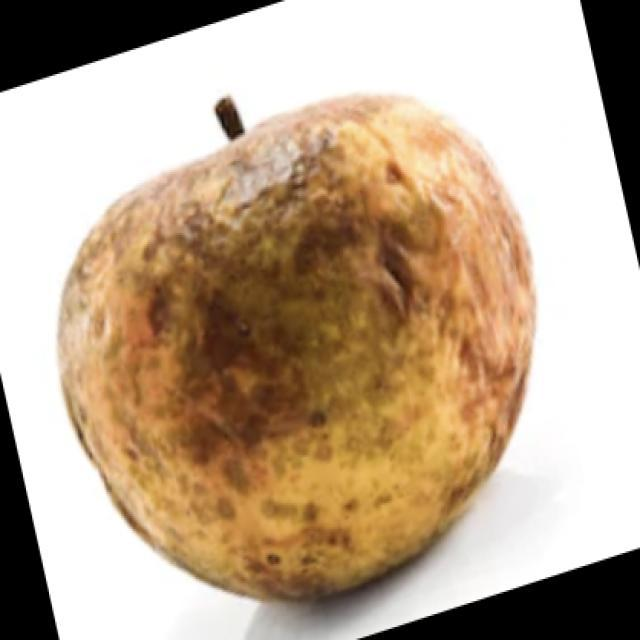Rotten: (59, 94, 542, 606)
